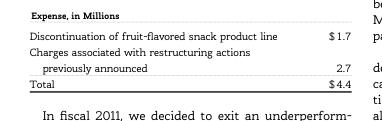table: (28, 28, 350, 90)
table column: (28, 28, 302, 90), (302, 28, 350, 90)
table row: (28, 43, 350, 75), (28, 28, 350, 43), (28, 75, 350, 90)
